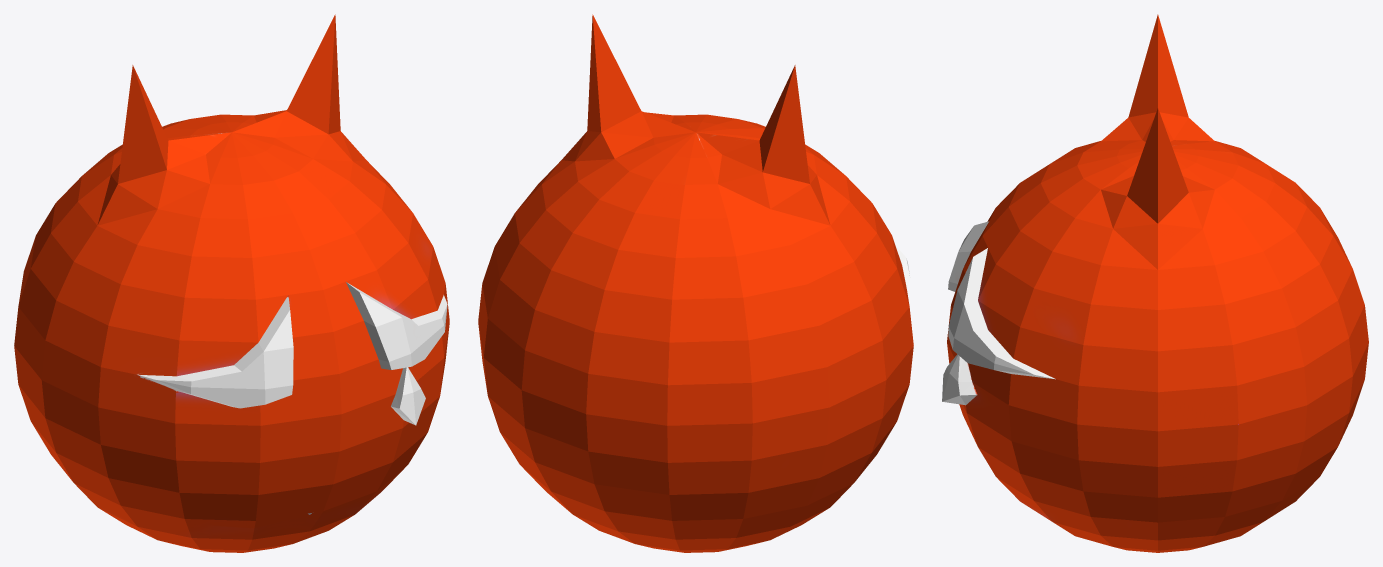
The model's file is red_soul.obj.
The picture shows the model from 3 angles, left to right: view 1: azimuth 30°, elevation 25°; view 2: azimuth 150°, elevation 25°; view 3: azimuth 270°, elevation 25°; orthographic projection. The views are drawn at different scales.
Visible parts, largest first — view 1: 球; view 2: 球; view 3: 球.
Part boxes in pixels (x1=…): 球: x1=14, y1=14, x2=449, y2=552; 球: x1=478, y1=14, x2=913, y2=552; 球: x1=942, y1=14, x2=1368, y2=552.
Size of the model in its own units: 2 by 2.48 by 2.02.
1 material, 1 textured.
